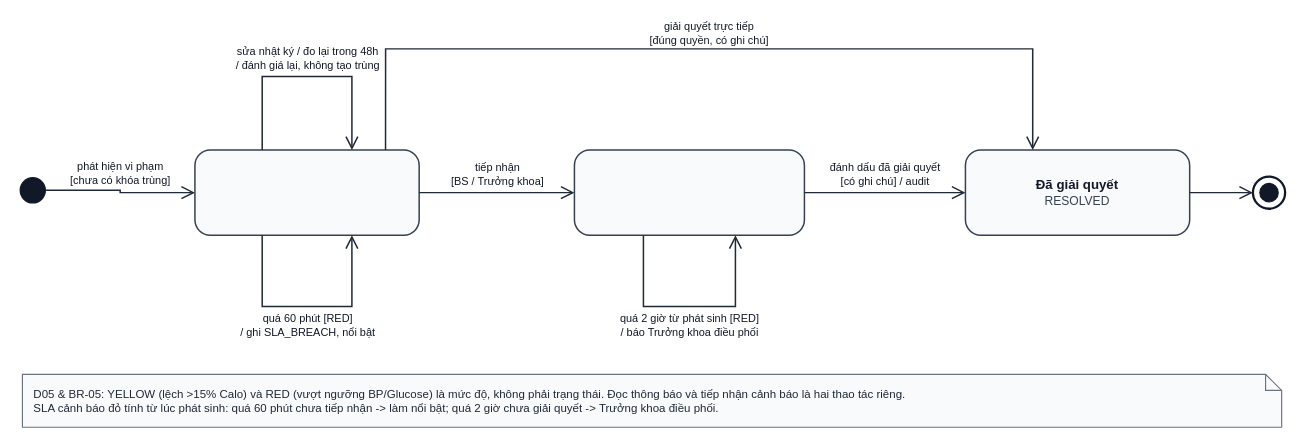
Image size: 1306x447. Some labels were removed from this diagram. Each missing label, with the centre of its shape:
"Chờ xử lý OPEN" belongs at [306,192].
"Đã tiếp nhận ACKNOWLEDGED" belongs at [689,192].
